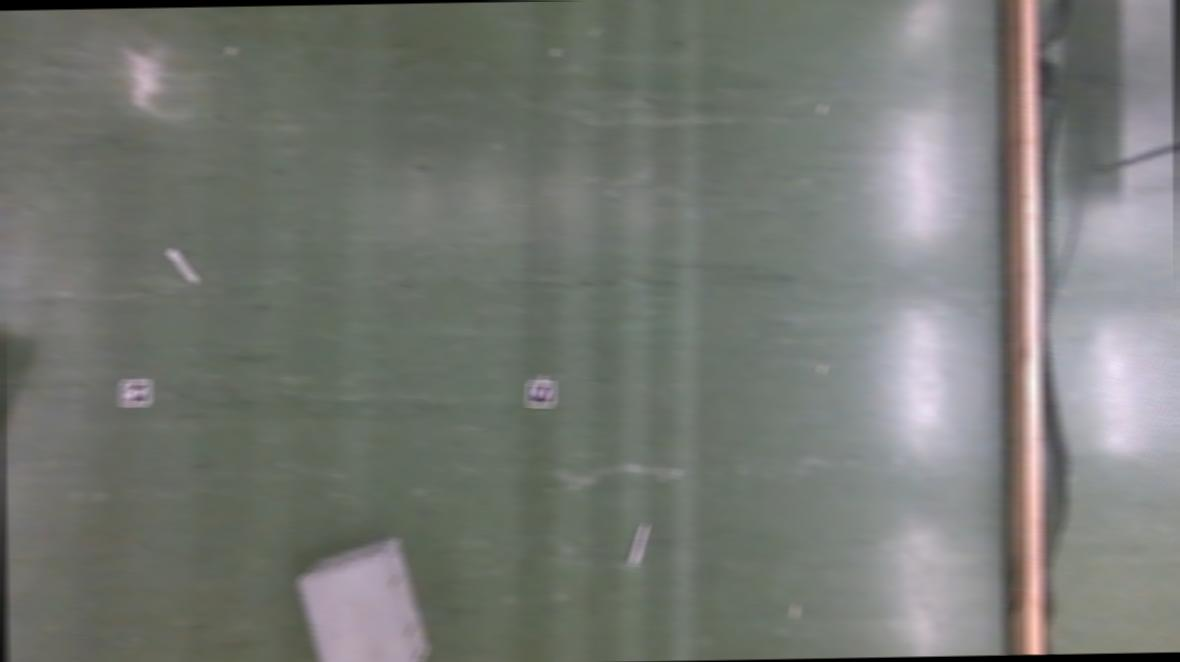probes: (170, 246, 196, 282), (628, 522, 650, 564)
rako: (294, 533, 430, 662)
